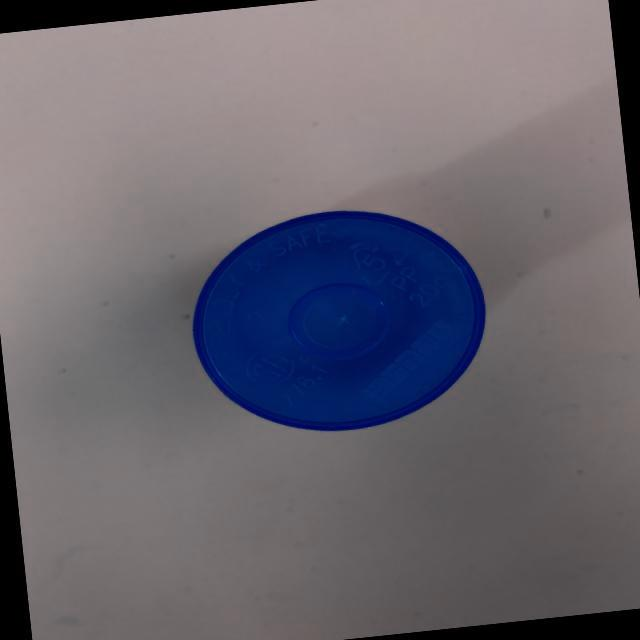plastic: (161, 179, 523, 457)
